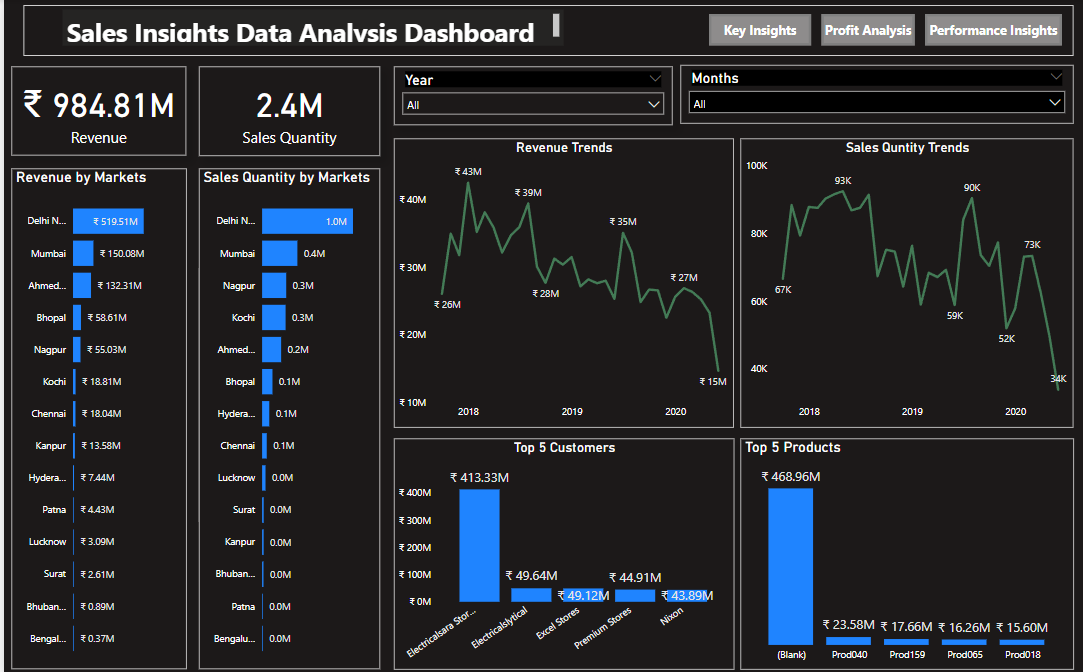

The dashboard page shown, as its layout file describes it:
{"tool":"powerbi","page":{"name":"key insights","canvas":[1350,850],"ordinal":0},"visuals":[{"type":"card","fields":{"Values":["keymeasure.Revenue"]},"box":[10.1,85.4,218.5,111.4],"z":0},{"type":"card","fields":{"Values":["keymeasure.sales quntity"]},"box":[243.3,85,226.7,111.7],"z":1000},{"type":"barChart","title":"Revenue by Markets","fields":{"Y":["keymeasure.Revenue"],"Category":["sales markets.markets_name"]},"box":[9.8,212.1,219.2,626.6],"z":2000},{"type":"barChart","title":"Sales Quantity by Markets","fields":{"Y":["keymeasure.sales quntity"],"Category":["sales markets.markets_name"]},"box":[243.3,211.7,226.7,626.7],"z":3000},{"type":"slicer","fields":{"Values":["sales date.year"]},"box":[488.3,85,348.3,73.3],"z":4000},{"type":"slicer","fields":{"Values":["sales date.cy_date"]},"box":[846.7,83.3,491.7,73.3],"z":5000},{"type":"columnChart","title":"Top 5 Customers","fields":{"Category":["sales customers.custmer_name"],"Y":["keymeasure.Revenue"]},"box":[487.5,549.3,425.7,289.4],"z":6000},{"type":"columnChart","title":"Top 5 Products","fields":{"Category":["sales products.product_code"],"Y":["keymeasure.Revenue"]},"box":[921.7,549.3,417.3,289.4],"z":7000},{"type":"lineChart","title":"Revenue Trends","fields":{"Y":["keymeasure.Revenue"],"Category":["sales date.cy_date"]},"box":[488.3,175,425,361.7],"z":8000},{"type":"lineChart","title":"Sales Quntity Trends","fields":{"Y":["keymeasure.sales quntity"],"Category":["sales date.cy_date"]},"box":[921.7,175,416.7,361.7],"z":9000},{"type":"shape","box":[24.4,7.5,1314.5,63.8],"z":10000},{"type":"actionButton","box":[882.3,19.7,127.9,39.3],"z":13000},{"type":"actionButton","box":[1024.2,19.7,116.6,39.3],"z":14000},{"type":"actionButton","box":[1152.1,19.7,171.4,39.3],"z":15000},{"type":"textbox","box":[73.2,13.1,627.2,45.1],"z":16000}]}

Visuals, with their boxes in screenshot pixels (x1, y1, x2, y2), scaled from the page's 1350x850 canvas onto the 1083x672 screenshot:
card - keymeasure.Revenue: detection(8, 68, 183, 156)
card - keymeasure.sales quntity: detection(195, 67, 377, 156)
"Revenue by Markets" barChart: detection(8, 168, 184, 663)
"Sales Quantity by Markets" barChart: detection(195, 167, 377, 663)
slicer - sales date.year: detection(392, 67, 671, 125)
slicer - sales date.cy_date: detection(679, 66, 1074, 124)
"Top 5 Customers" columnChart: detection(391, 434, 733, 663)
"Top 5 Products" columnChart: detection(739, 434, 1074, 663)
"Revenue Trends" lineChart: detection(392, 138, 733, 424)
"Sales Quntity Trends" lineChart: detection(739, 138, 1074, 424)
shape: detection(20, 6, 1074, 56)
actionButton: detection(708, 16, 810, 47)
actionButton: detection(822, 16, 915, 47)
actionButton: detection(924, 16, 1062, 47)
textbox: detection(59, 10, 562, 46)
